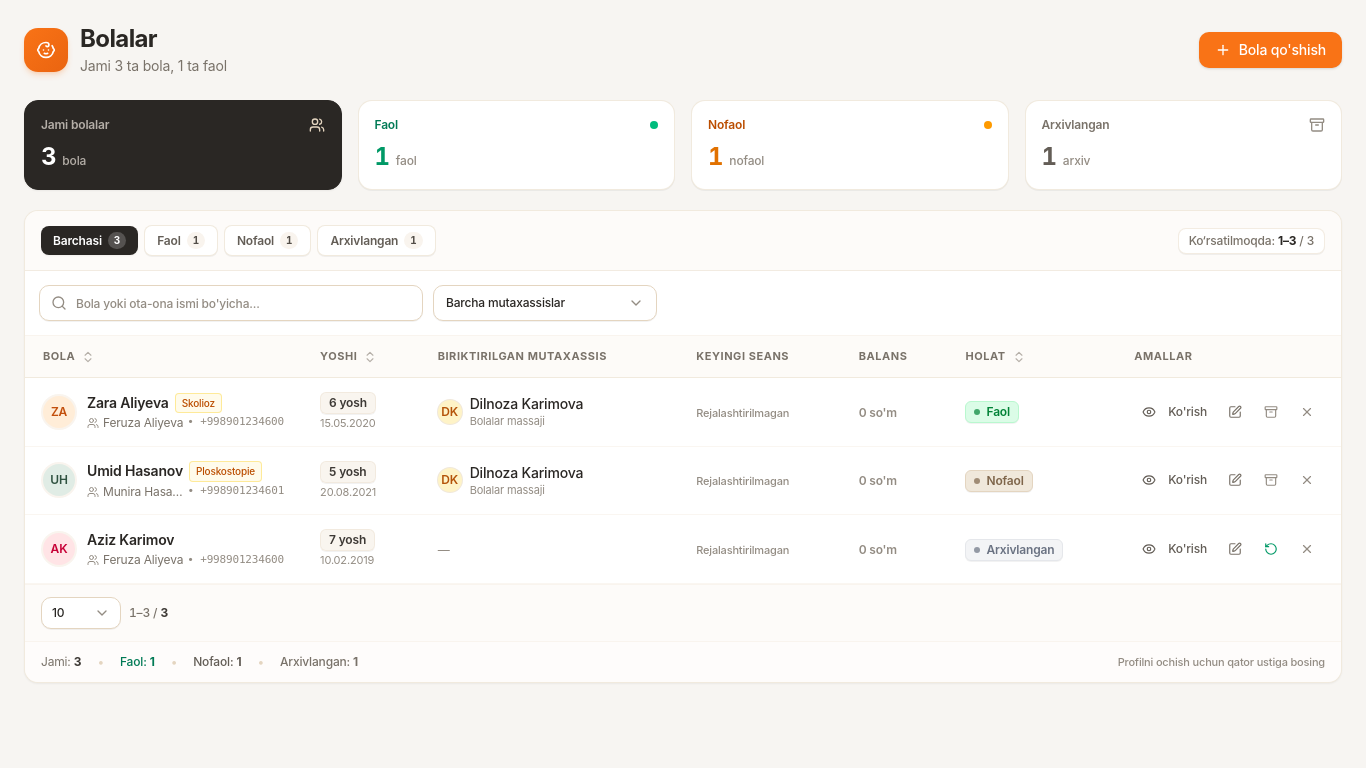
ChildrenPage Component › switches status filter when clicking status counter cards
Click "Faol" counter card
Click the button "Faol 1 faol" at (386, 124), box [358,100,675,190]
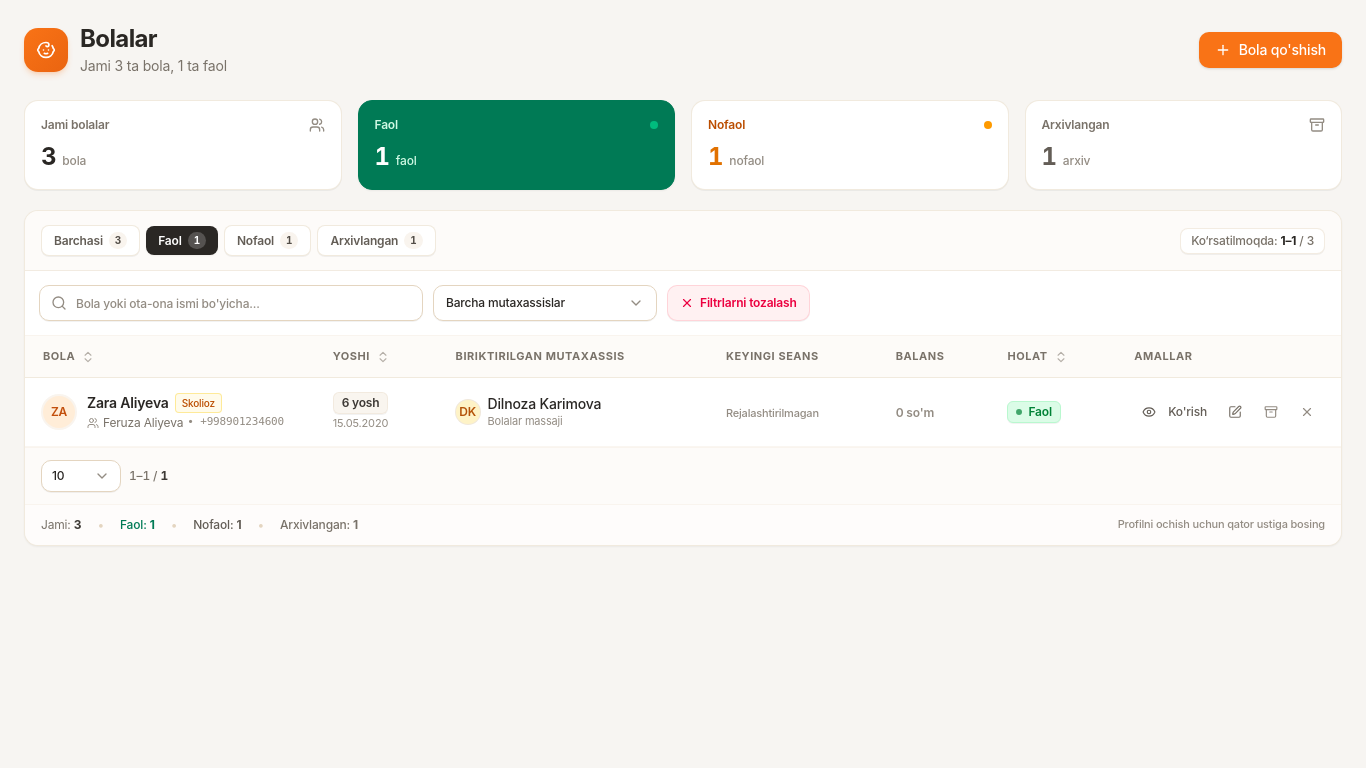
Expected: the text "Zara Aliyeva" is shown, [87,393,169,413]
Expected: the text "Umid Hasanov" is gone
Expected: the text "Aziz Karimov" is gone
